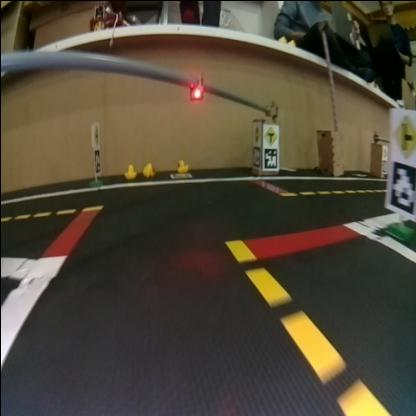Duckie: (141, 162, 153, 174), (123, 163, 133, 177), (176, 158, 186, 170)
Intersection sign: (392, 115, 414, 158), (262, 124, 276, 142), (92, 125, 98, 145)
QR code: (389, 160, 415, 212), (264, 147, 275, 168), (93, 150, 99, 170), (252, 148, 258, 166)
Signal sign: (252, 125, 258, 142)
Traffic light: (188, 80, 204, 100)
